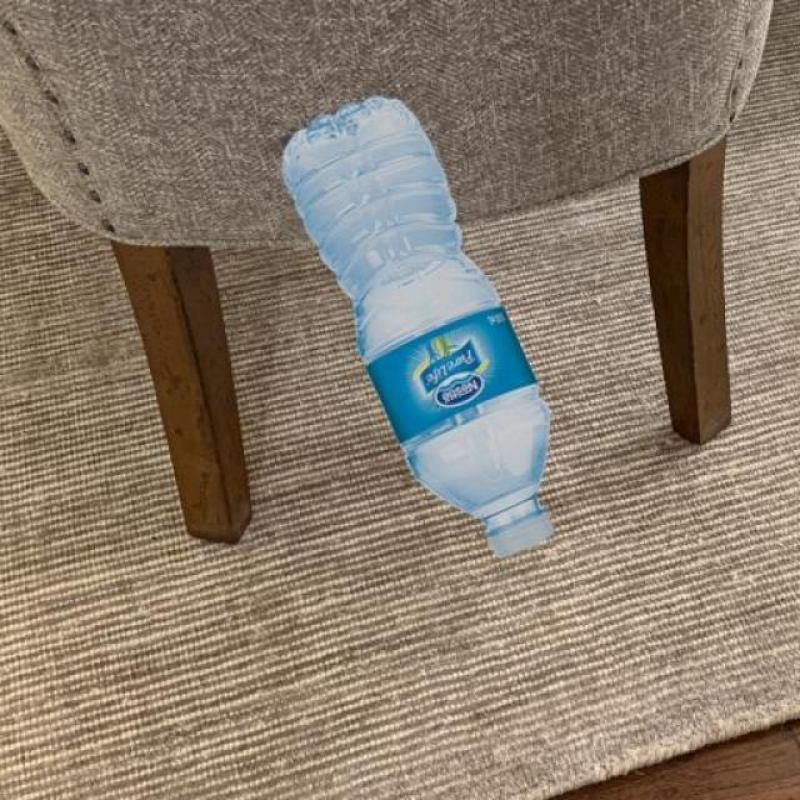botella: (280, 94, 556, 556)
